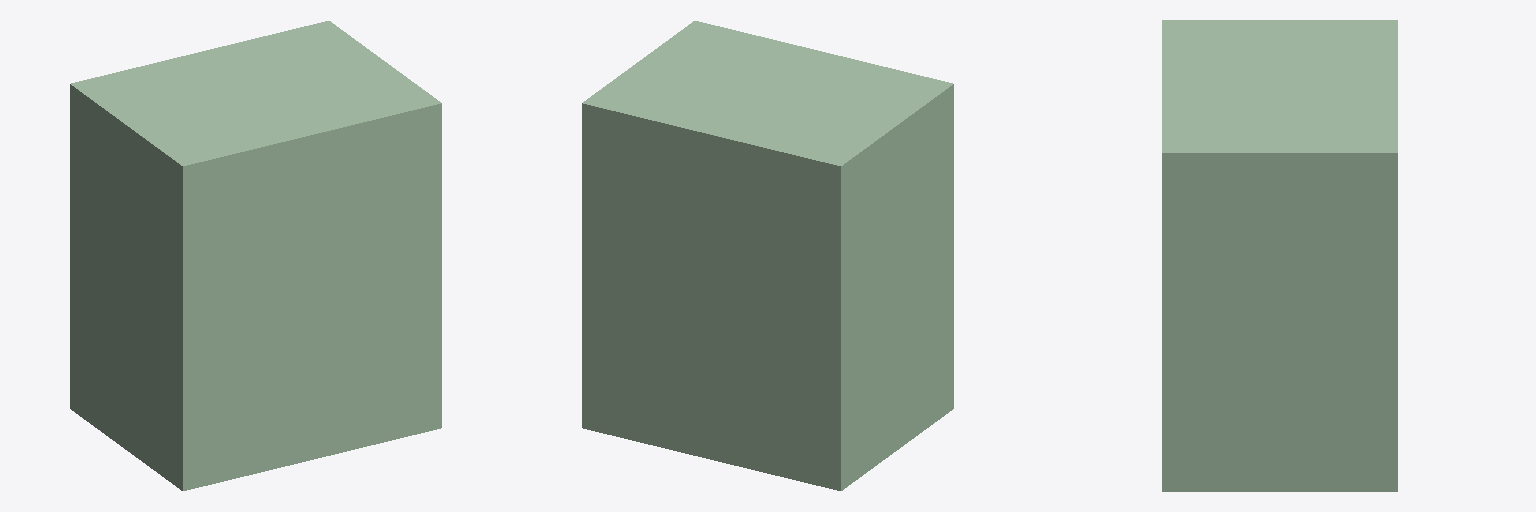
URDF robot description (box.urdf):
<?xml version="1.0" ?>
<robot name="box.urdf">
  <link name="baseLink">
    <contact>
      <lateral_friction value="1.0"/>
      <rolling_friction value="0.0001"/>
      <inertia_scaling value="3.0"/>
    </contact>
    <inertial>
      <origin rpy="0 0 0" xyz="0 0 0"/>
       <mass value="0.1"/>
       <inertia ixx="1" ixy="0" ixz="0" iyy="1" iyz="0" izz="1"/>
    </inertial>
    <visual>
      <origin rpy="0 0 0" xyz="0 0 0"/>
      <geometry>
        <!-- <box size="0.233 0.17600000000000002 0.27899999999999997"/> -->
        <mesh filename="box/box.obj" scale="0.233 0.17600000000000002 0.27899999999999997"/>
      </geometry>
      <material name="white">
        <color rgba="0.7 0.8 0.7 1"/>
      </material>
    </visual>
    <collision>
      <origin rpy="0 0 0" xyz="0 0 0"/>
      <geometry>
        <mesh filename="box/box.obj" scale="0.233 0.17600000000000002 0.27899999999999997"/>
	 	    <!-- <box size="0.233 0.17600000000000002 0.27899999999999997"/> -->
      </geometry>
    </collision>
  </link>
</robot>

--- Render facts (derived) ---
Views: 3 orthographic renders of the robot side by side, from view 1: azimuth 30°, elevation 25°; view 2: azimuth 150°, elevation 25°; view 3: azimuth 270°, elevation 25°.
Model box.urdf with 1 links and 0 joints (none), rooted at baseLink, posed every joint at zero.
Visible links, largest first — view 1: baseLink; view 2: baseLink; view 3: baseLink.
Link boxes in pixels (box(x1,y1,x2,y2)): baseLink: box(70, 21, 441, 490); baseLink: box(582, 21, 953, 490); baseLink: box(1162, 20, 1397, 491).
Bounding box of the posed robot: 0.233 × 0.176 × 0.279 m (x, y, z).
Meshes: 1 distinct files referenced, 1 mesh visuals loaded (1 OBJ).
